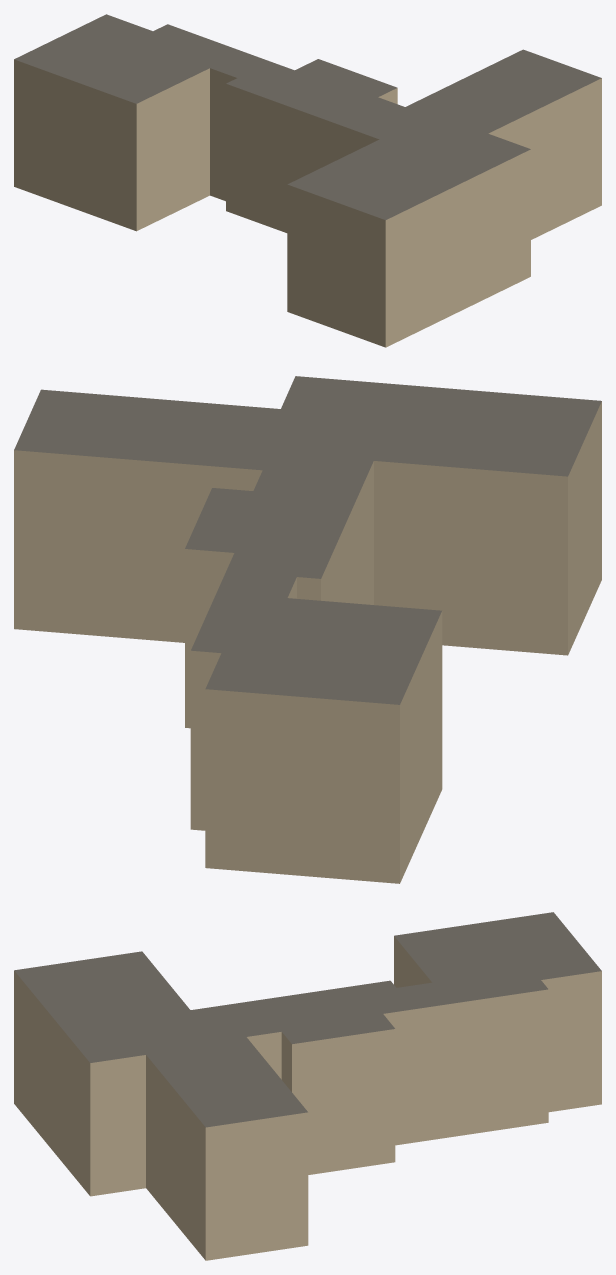
3 views of the same model, one above another, from view 1: azimuth 30°, elevation 25°; view 2: azimuth 150°, elevation 25°; view 3: azimuth 270°, elevation 25° (orthographic). The views are drawn at different scales.
Visible parts, largest first — view 1: HP-w1385510830; view 2: HP-w1385510830; view 3: HP-w1385510830.
Boxes of the visible parts, box(x1,y1,x2,y2) form: HP-w1385510830: box(14, 14, 601, 347); HP-w1385510830: box(14, 376, 601, 883); HP-w1385510830: box(14, 912, 601, 1260).
Size of the model in its own units: 68.6 by 19.8 by 79.13.
